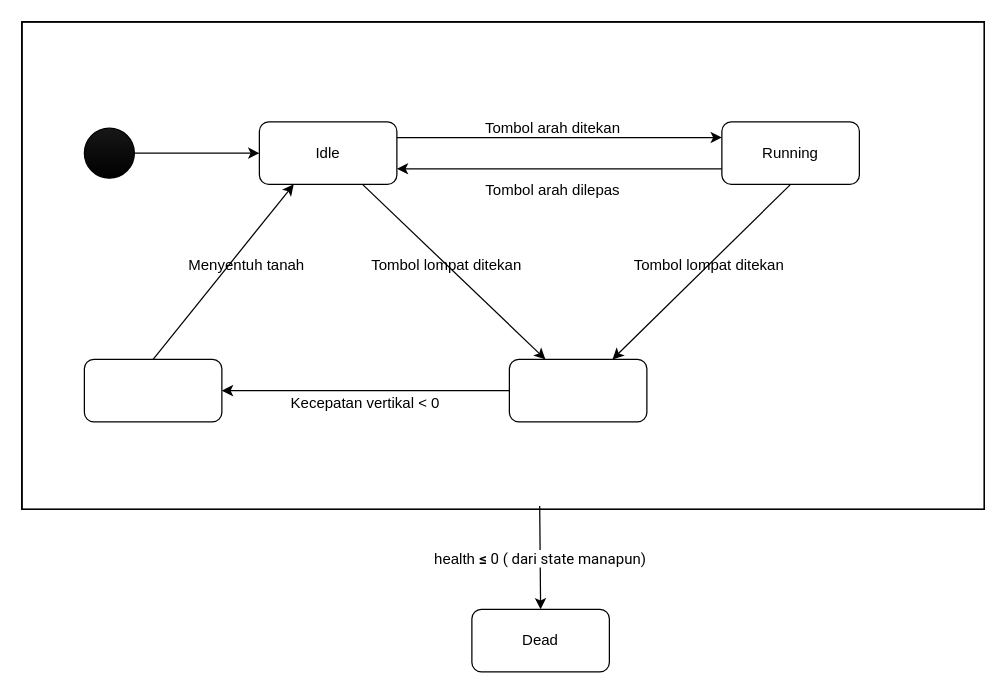
This 1006x694 diagram has some shape labels left out. The box of each missing label's shape, as (x1, y1, x2, y2) in pixels:
Falling: (83, 358, 222, 422)
Jumping: (508, 358, 647, 422)
